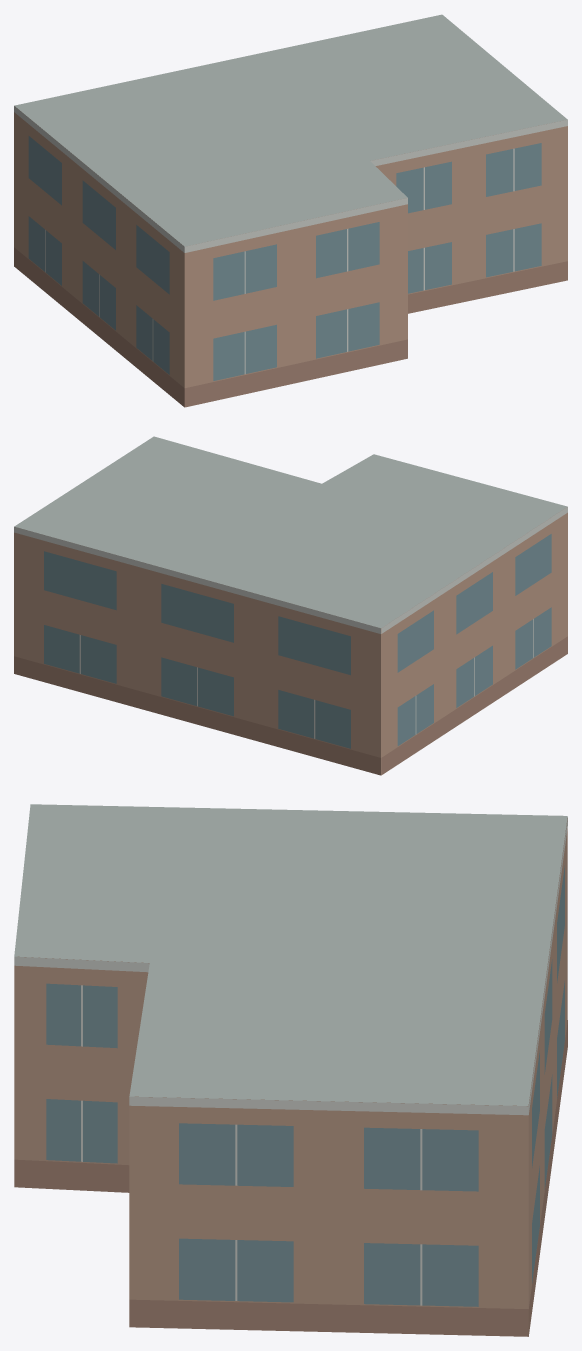
Rendered from survey-upis-32960827.glb.
The picture shows the model from 3 angles, top to bottom: view 1: azimuth 30°, elevation 25°; view 2: azimuth 150°, elevation 25°; view 3: azimuth 270°, elevation 25°; orthographic projection. The views are drawn at different scales.
Parts seen in each view (by area): view 1: survey-upis-32960827.tmp; view 2: survey-upis-32960827.tmp; view 3: survey-upis-32960827.tmp.
Part boxes in pixels (left/top/right/bottom): survey-upis-32960827.tmp: left=14, top=14, right=567, bottom=407; survey-upis-32960827.tmp: left=14, top=436, right=567, bottom=775; survey-upis-32960827.tmp: left=14, top=804, right=567, bottom=1336.
Size of the model in its own units: 17.13 by 6.1 by 13.28.
